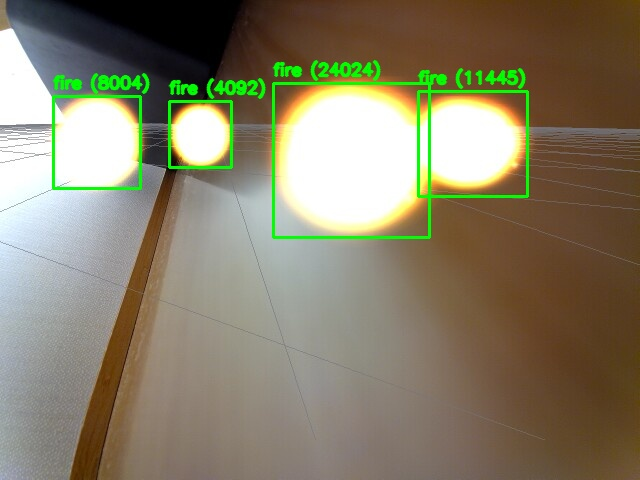fire: (273, 83, 429, 237), (418, 91, 527, 196), (53, 96, 140, 188), (169, 101, 231, 167)
